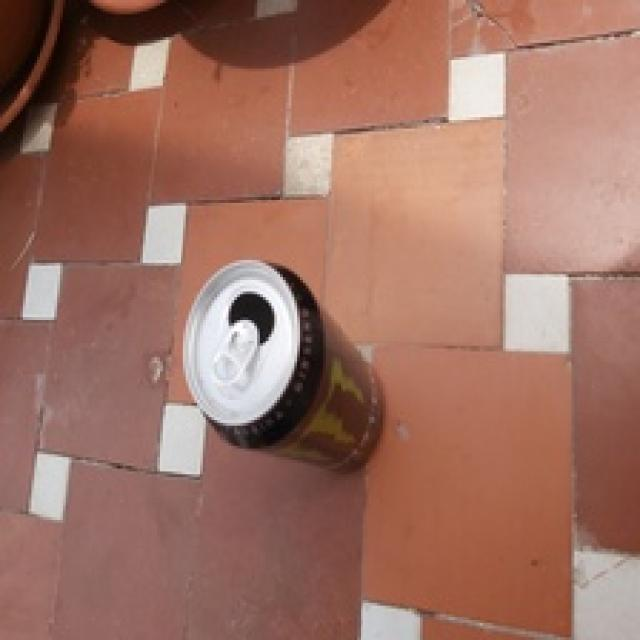recyclable: (180, 257, 385, 475)
